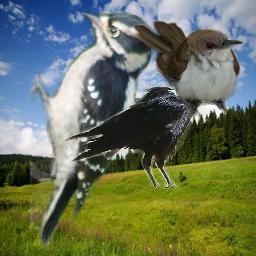Crow: (64, 66, 222, 189)
Cuckoo: (134, 20, 244, 118)
Woodpecker: (30, 5, 158, 251)
